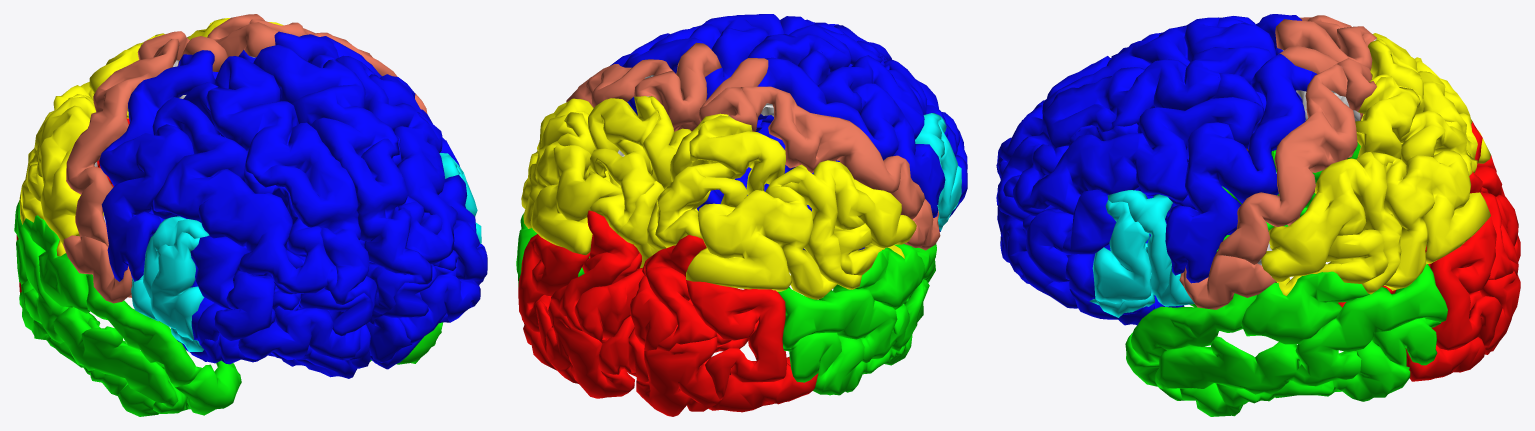
Rendered from Brain Giga Final.fbx.
3 views of the same model, side by side, from view 1: azimuth 30°, elevation 25°; view 2: azimuth 150°, elevation 25°; view 3: azimuth 270°, elevation 25° (orthographic). The views are drawn at different scales.
Parts seen in each view (by area): view 1: BRAIN.001; view 2: BRAIN.001; view 3: BRAIN.001.
Boxes of the visible parts, box(x1,y1,x2,y2) form: BRAIN.001: box(14, 14, 487, 416); BRAIN.001: box(516, 14, 967, 416); BRAIN.001: box(996, 14, 1520, 416).
Size of the model in its own units: 56.28 by 45.66 by 68.42.
